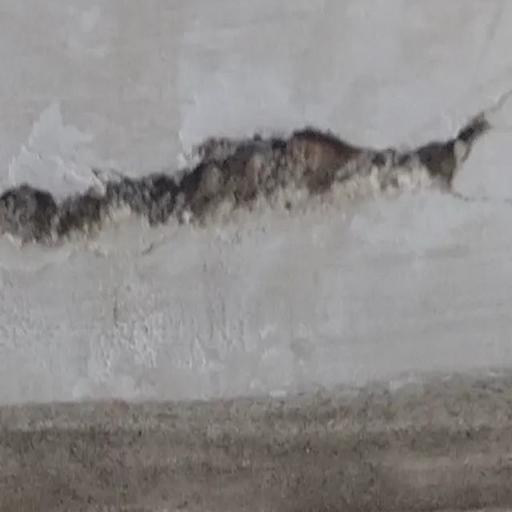spalling: (0, 80, 512, 270)
